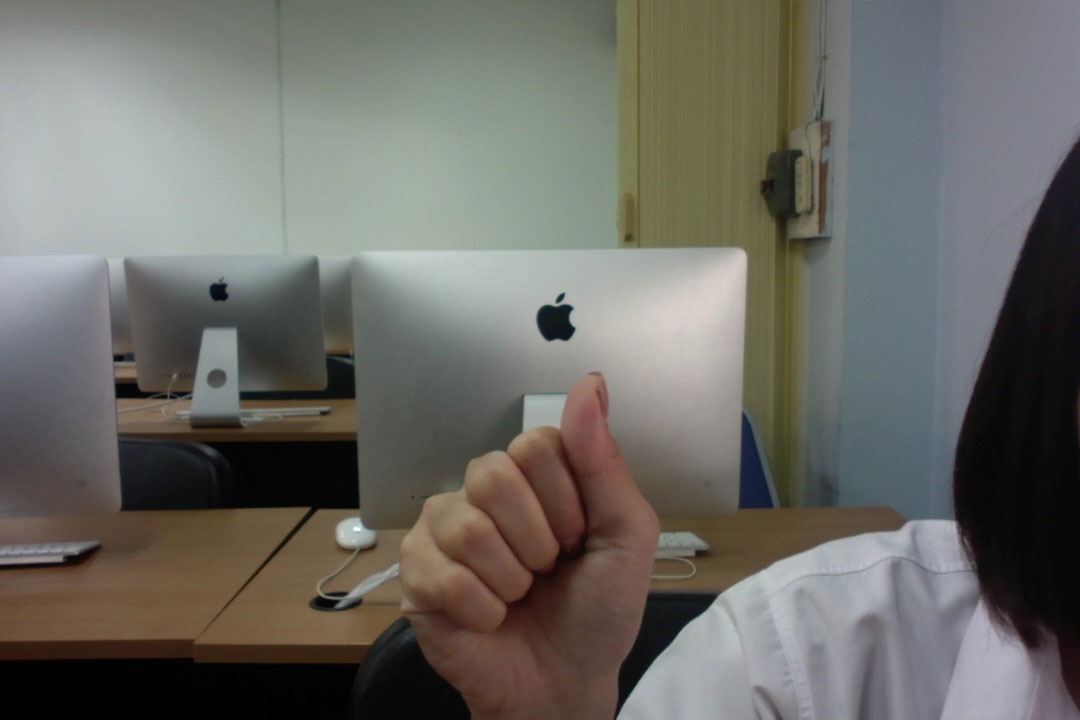or: (390, 368, 684, 715)
